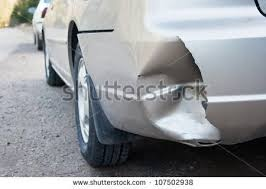Dent: (131, 34, 222, 148), (77, 1, 130, 26)
